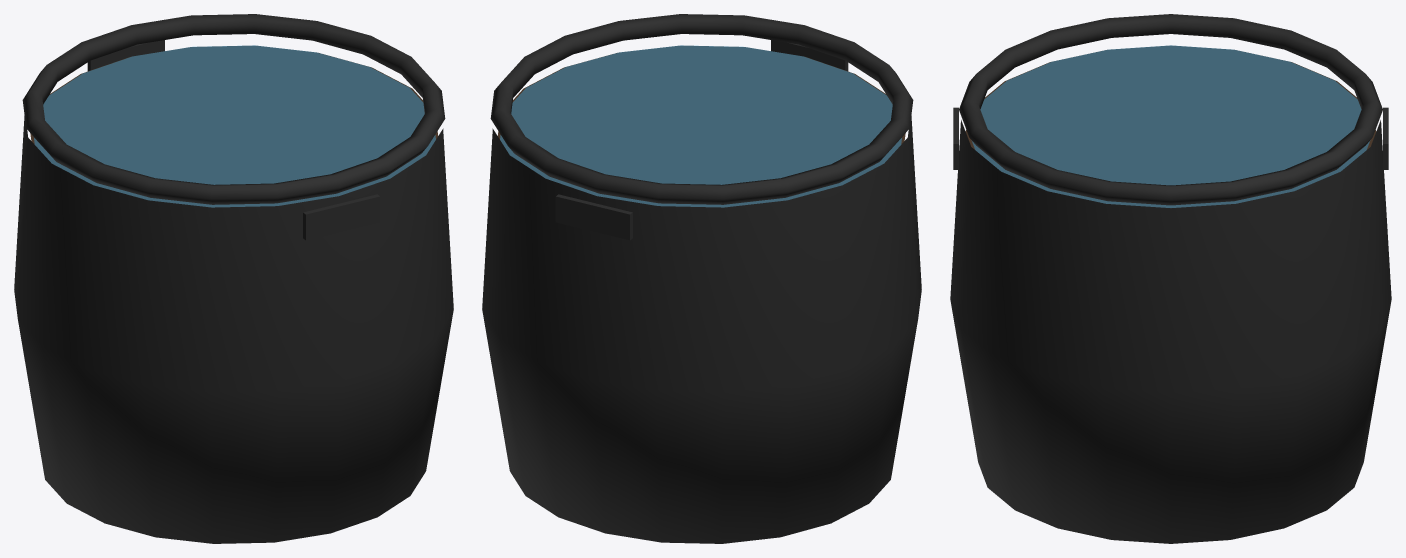
The model's file is vessel--generic_fabric_20l.glb.
3 views of the same model, side by side, from view 1: azimuth 30°, elevation 25°; view 2: azimuth 150°, elevation 25°; view 3: azimuth 270°, elevation 25° (orthographic).
Visible parts, largest first — view 1: pot_body, soil_surface, soil_wet, pot_rim, pot_handles; view 2: pot_body, soil_surface, soil_wet, pot_rim, pot_handles; view 3: pot_body, soil_surface, soil_wet, pot_rim, pot_handles.
Part boxes in pixels (x1,y1,x2,y2): pot_body: (14,115,453,543); soil_surface: (30,45,438,207); soil_wet: (34,45,435,207); pot_rim: (22,14,445,204); pot_handles: (87,40,380,240); pot_body: (482,115,921,543); soil_surface: (497,45,905,207); soil_wet: (500,45,901,207); pot_rim: (490,14,913,204); pot_handles: (555,40,848,240); pot_body: (950,120,1391,543); soil_surface: (965,45,1376,207); soil_wet: (972,45,1369,207); pot_rim: (959,14,1382,205); pot_handles: (953,107,1388,169).
Bounding box in the file's own units: 0.309 × 0.2796 × 0.309.
